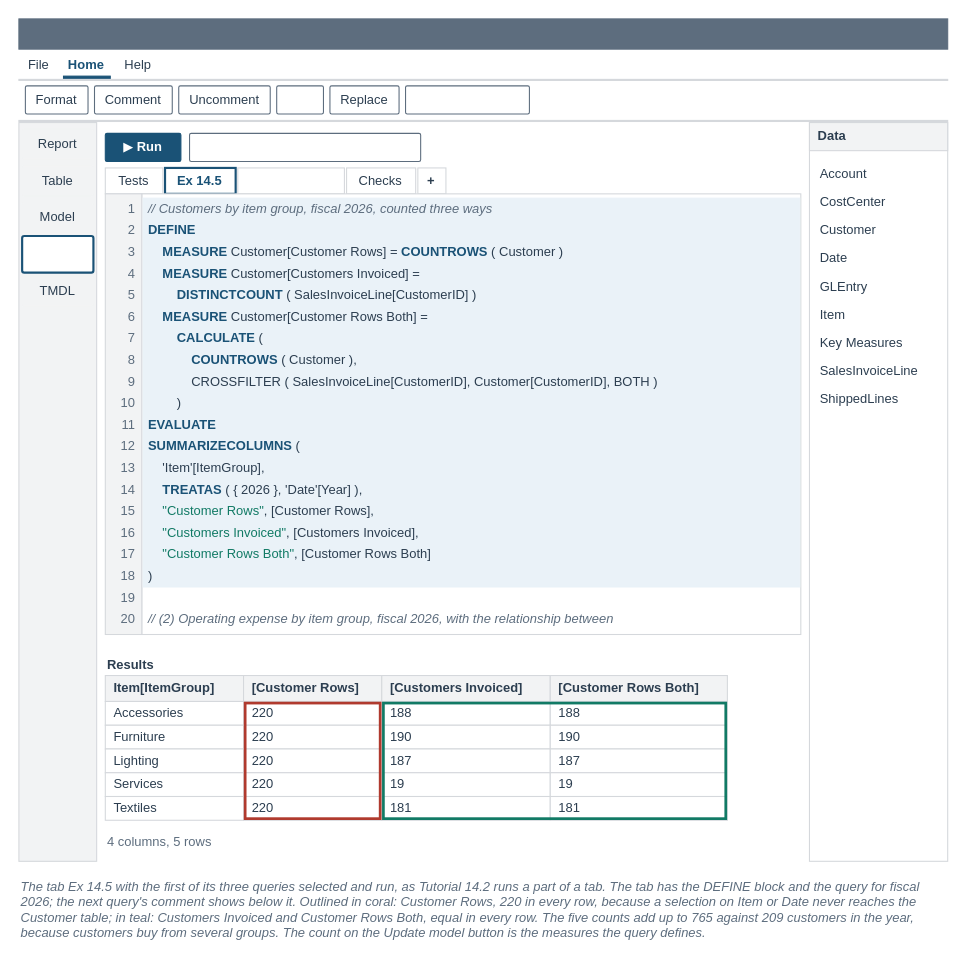
Some shapes in this 967 by 967 pixel diagram are drawn without their labels. The shapes that lost their labels are listed below. From the top down, each one's centre as x and y in pixels, then its label:
At point 483,33: "Chapter 14 Exercises - Solutions - Power BI Desktop".
At point 299,99: "Find".
At point 466,99: "Command palette".
At point 304,146: "Update model with changes (3)".
At point 290,180: "Control Totals".
At point 57,253: "DAX query".
